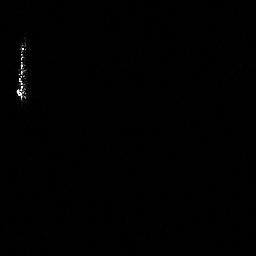ship: (13, 37, 35, 105)
